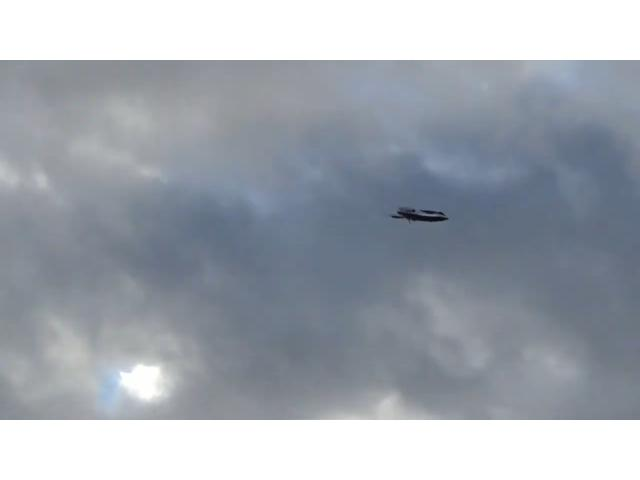Anti-Drone: (386, 205, 449, 223)
